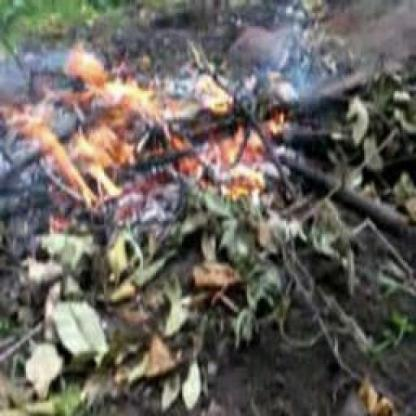fire: (16, 40, 282, 204)
